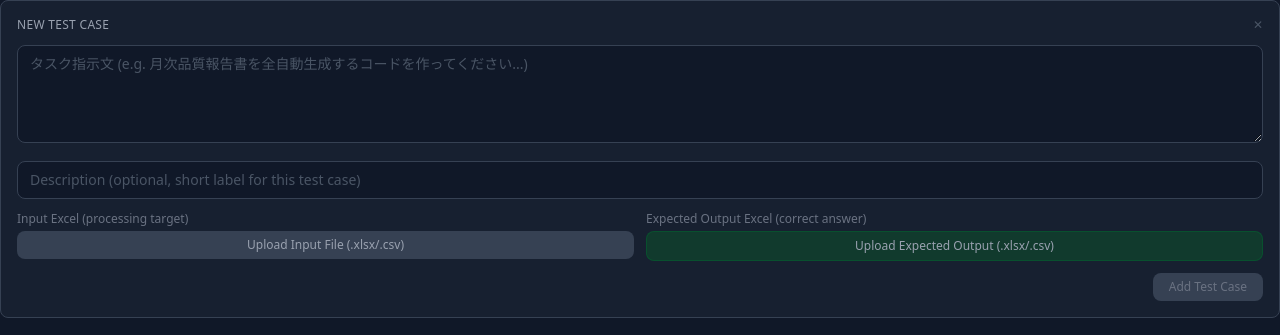
Test: CreateTestCaseForm › submit button is enabled when task has value
Type "My task" into the text box with placeholder "タスク指示文 (e.g. 月次品質報告書を全自動生成するコードを作ってください...)" at (640, 94), box [17,45,1263,143]
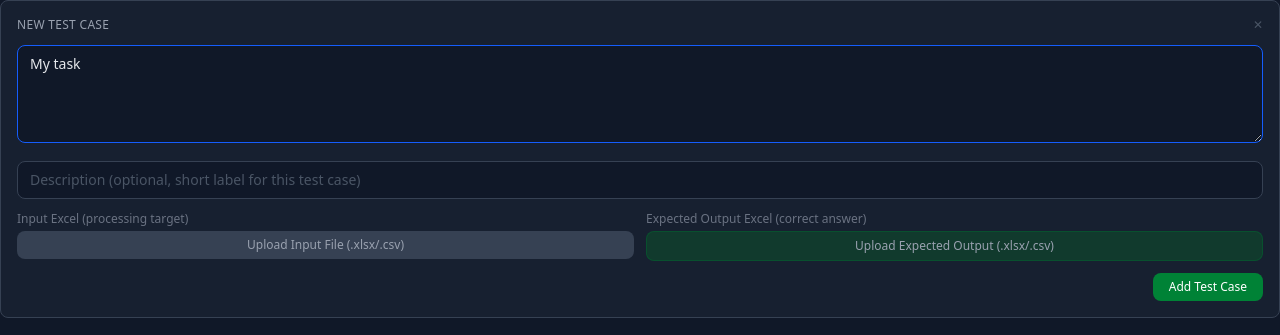
Expected: the button "Add Test Case" is enabled, [1153,273,1263,301]
